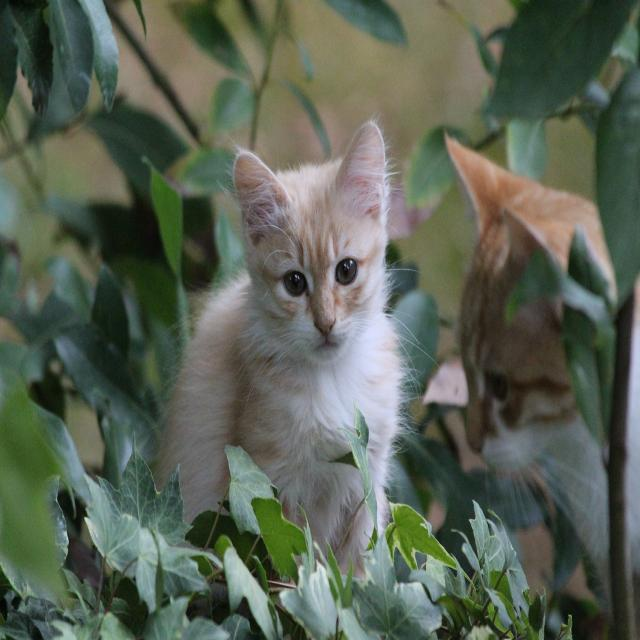cat: (153, 120, 407, 586)
